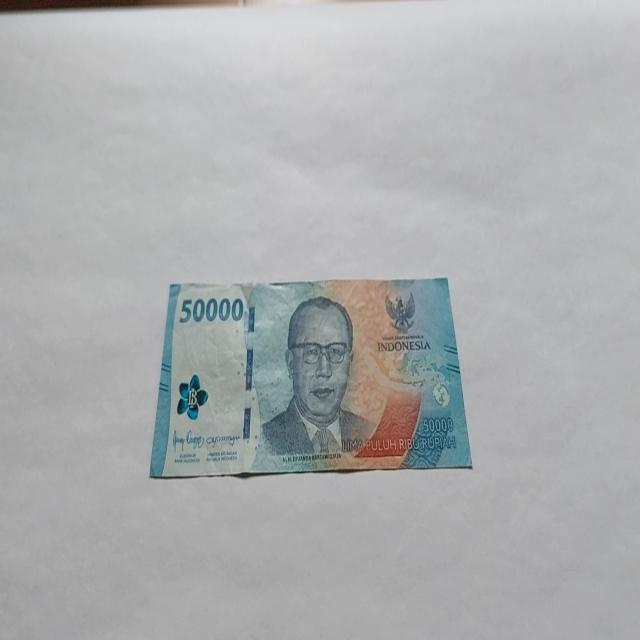lima puluh ribu rupiah: (149, 276, 473, 480), (256, 294, 380, 463)
